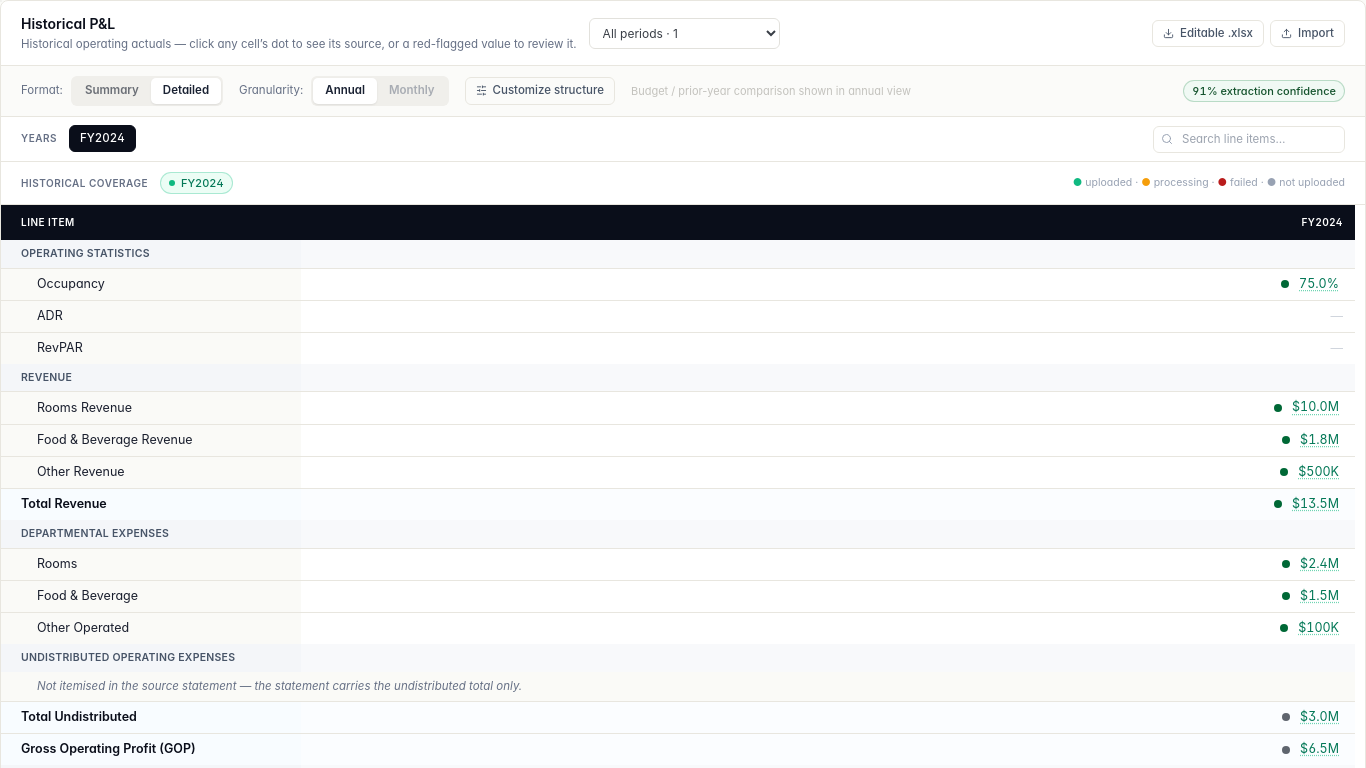
Historical P&L — Total Revenue row shows the stated total (FON-90) › shows $13.5M (the statement’s line), not the $12.3M re-sum, as an extracted cell sourced to the Total Revenue field
Click the button named "Extracted — click to see its source" at point(1316, 504), box x1=1288 y1=495 x2=1343 y2=514
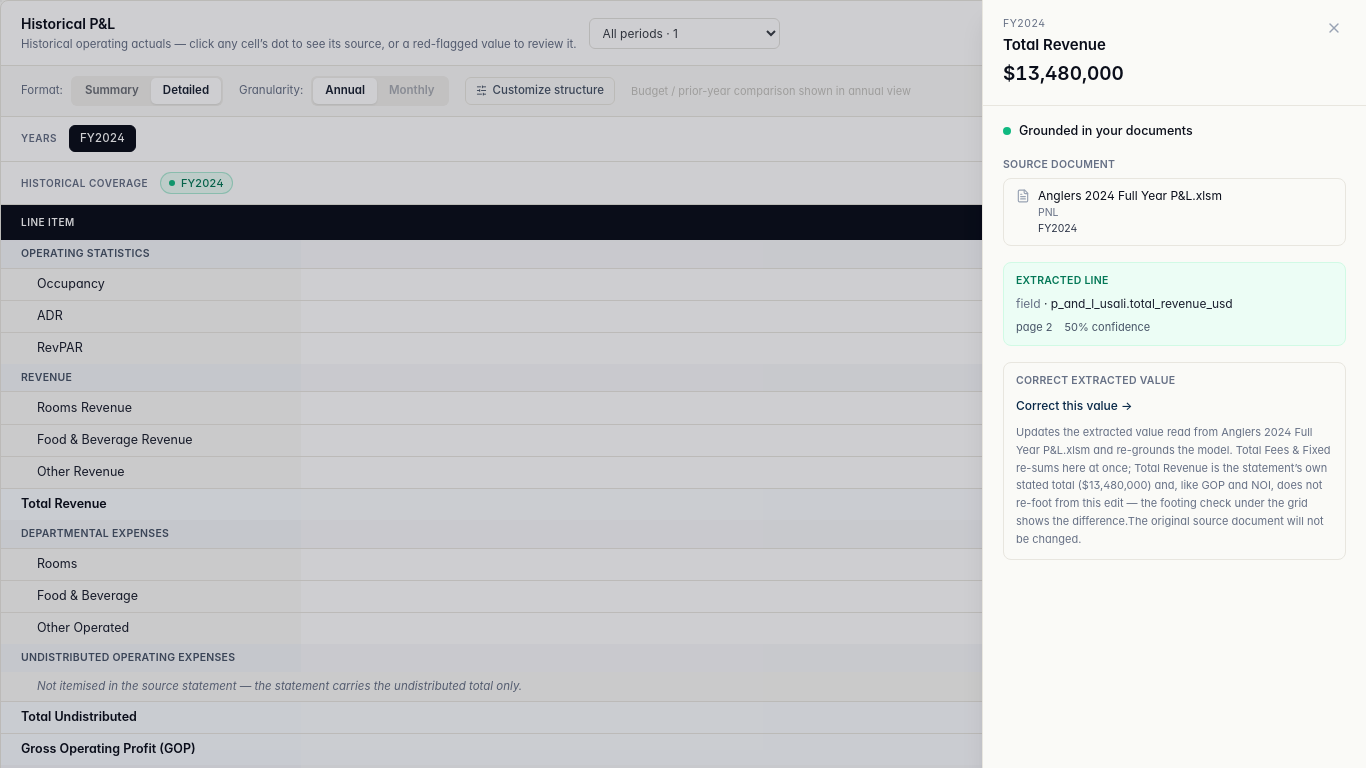
Result: the text "Grounded in your documents" is shown at x1=1019 y1=122 x2=1193 y2=141
Result: the text "$13,480,000" is shown at x1=1003 y1=60 x2=1124 y2=89
Result: the text "Anglers 2024 Full Year P&L.xlsm" is shown at x1=1038 y1=187 x2=1222 y2=205
